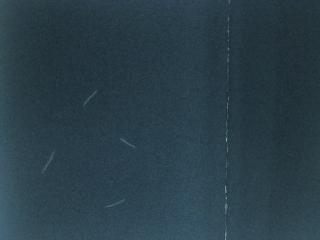crack: (218, 0, 237, 240)
scratch: (38, 148, 60, 178), (77, 86, 102, 111), (101, 195, 129, 214), (116, 133, 139, 152)
